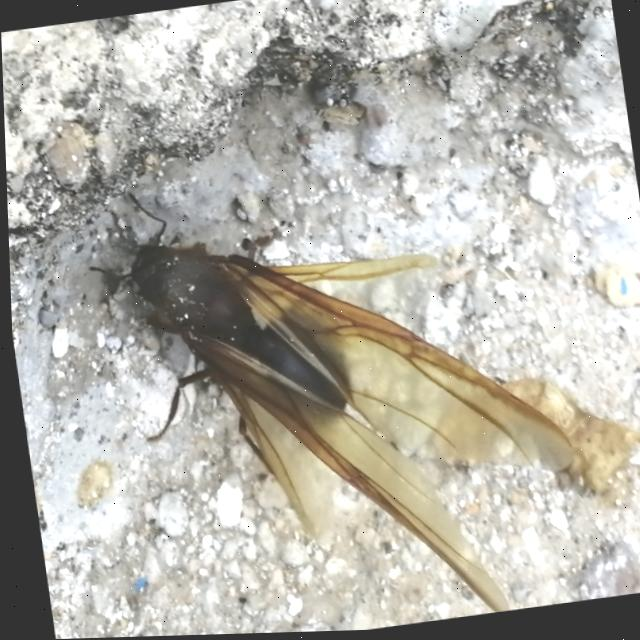Alive-Female-Alate: (73, 137, 590, 638)
